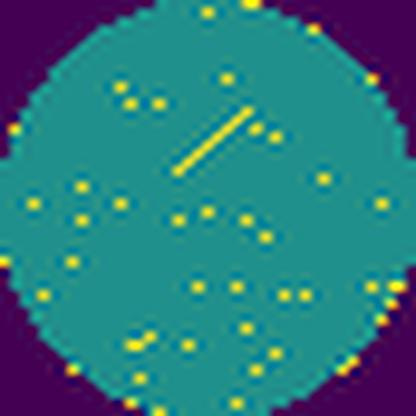Scratch: (162, 100, 258, 186)
